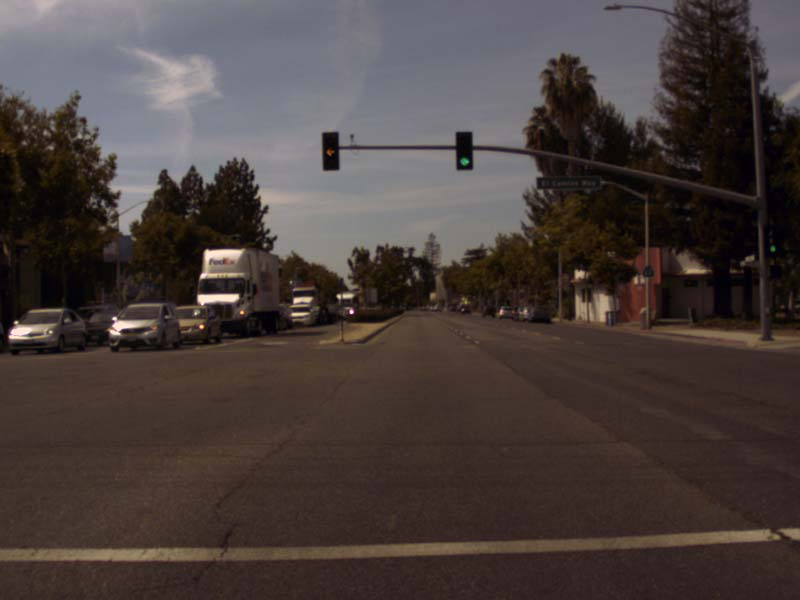Green: (455, 131, 472, 169), (764, 225, 783, 257)
Yellow: (322, 132, 338, 170)
